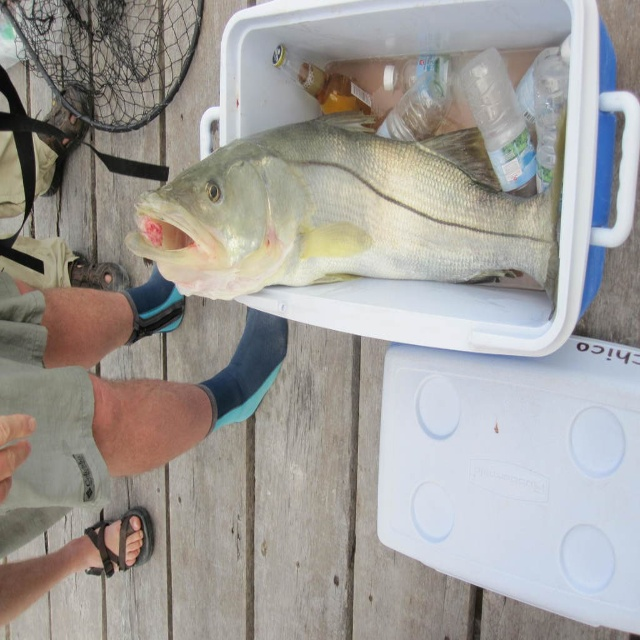Fish: (124, 110, 558, 321)
